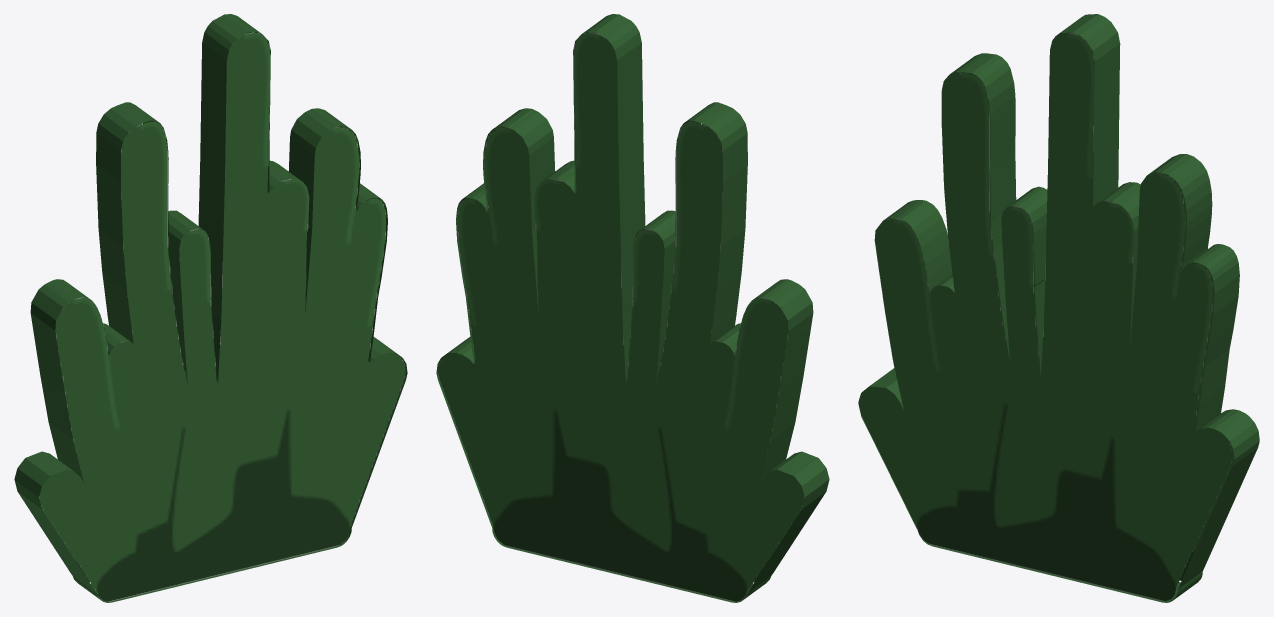
Rendered from GrassTuft03.fbx.
3 views of the same model, side by side, from view 1: azimuth 30°, elevation 25°; view 2: azimuth 150°, elevation 25°; view 3: azimuth 330°, elevation 25° (orthographic). The views are drawn at different scales.
Parts seen in each view (by area): view 1: Grass03; view 2: Grass03; view 3: Grass03.
Part boxes in pixels (<box>): Grass03: <box>14,14,407,602</box>; Grass03: <box>436,14,829,602</box>; Grass03: <box>858,14,1259,602</box>.
Bounding box in the file's own units: 0.4084 × 0.5683 × 0.0475.
